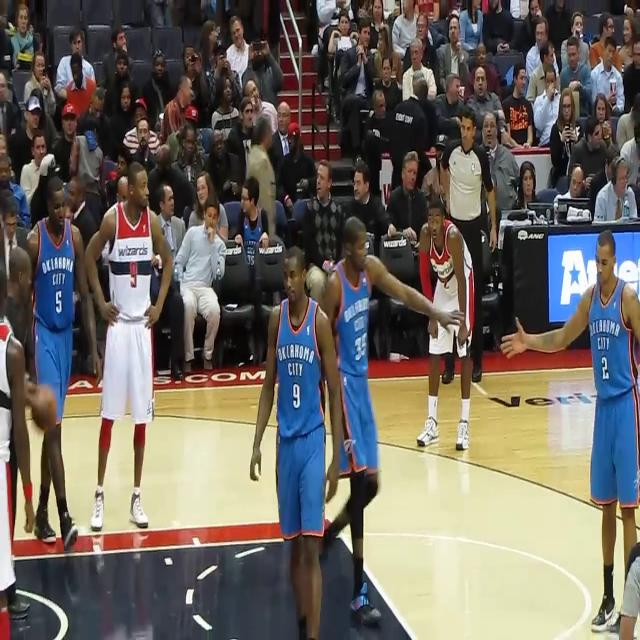ball: (27, 386, 58, 432)
